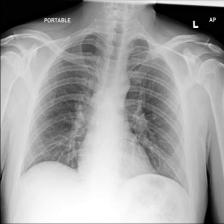normal: (13, 24, 193, 196)
